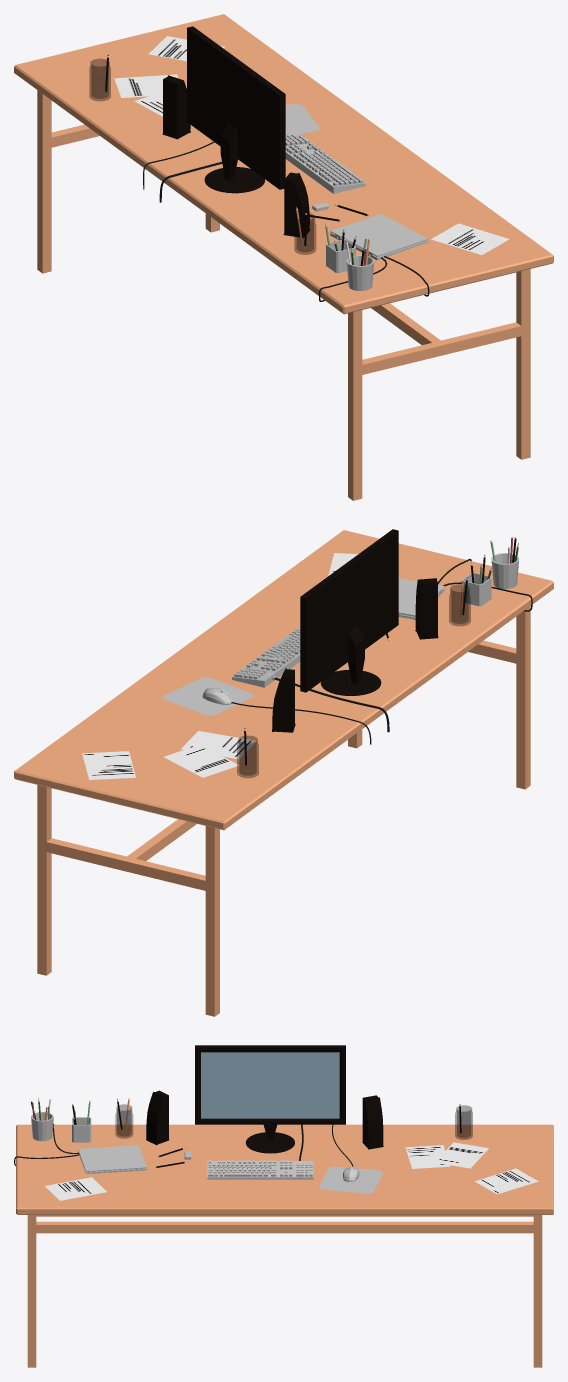
The model's file is lowpoly_desk.fbx.
The picture shows the model from 3 angles, top to bottom: view 1: azimuth 30°, elevation 25°; view 2: azimuth 150°, elevation 25°; view 3: azimuth 270°, elevation 25°; orthographic projection. The views are drawn at different scales.
Visible parts, largest first — view 1: Desk, PC_Monitor, Paper, Boxes, PC_Speaker, Notebook, PC_Keyboard, Pen, Mousepad; view 2: Desk, PC_Monitor, Paper, Boxes, PC_Speaker, PC_Keyboard, Mousepad, Notebook, Pen; view 3: Desk, PC_Monitor, Paper, Boxes, PC_Speaker, PC_Keyboard, Notebook, Mousepad, Pen.
Part boxes in pixels (<box>): Desk: <box>14,14,553,500</box>; PC_Monitor: <box>187,26,285,193</box>; Paper: <box>114,36,509,254</box>; Boxes: <box>89,59,374,290</box>; PC_Speaker: <box>162,75,309,237</box>; Notebook: <box>330,214,428,260</box>; PC_Keyboard: <box>285,133,365,193</box>; Pen: <box>105,54,369,265</box>; Mousepad: <box>285,103,320,135</box>; Desk: <box>14,530,553,1016</box>; PC_Monitor: <box>300,529,398,695</box>; Paper: <box>82,553,358,779</box>; Boxes: <box>237,553,518,777</box>; PC_Speaker: <box>272,578,438,732</box>; PC_Keyboard: <box>232,627,300,687</box>; Mousepad: <box>163,677,252,715</box>; Notebook: <box>398,578,444,619</box>; Pen: <box>244,537,518,765</box>; Desk: <box>16,1124,553,1367</box>; PC_Monitor: <box>195,1045,345,1153</box>; Paper: <box>45,1142,538,1200</box>; Boxes: <box>31,1104,472,1142</box>; PC_Speaker: <box>146,1090,383,1149</box>; PC_Keyboard: <box>207,1160,313,1179</box>; Notebook: <box>78,1145,146,1173</box>; Mousepad: <box>319,1166,383,1193</box>; Pen: <box>31,1098,461,1167</box>.
Size of the model in its own units: 231 by 324 by 602.
